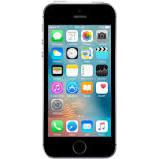Smartphone: (45, 2, 115, 156)
